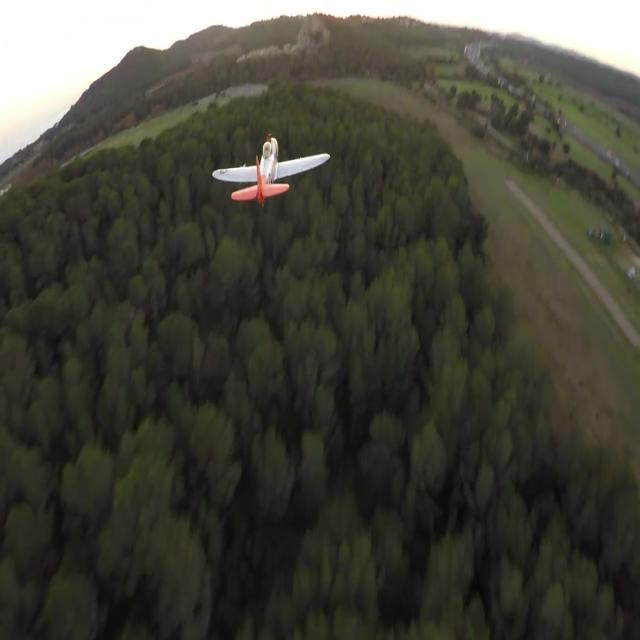iha: (244, 167, 299, 170)
